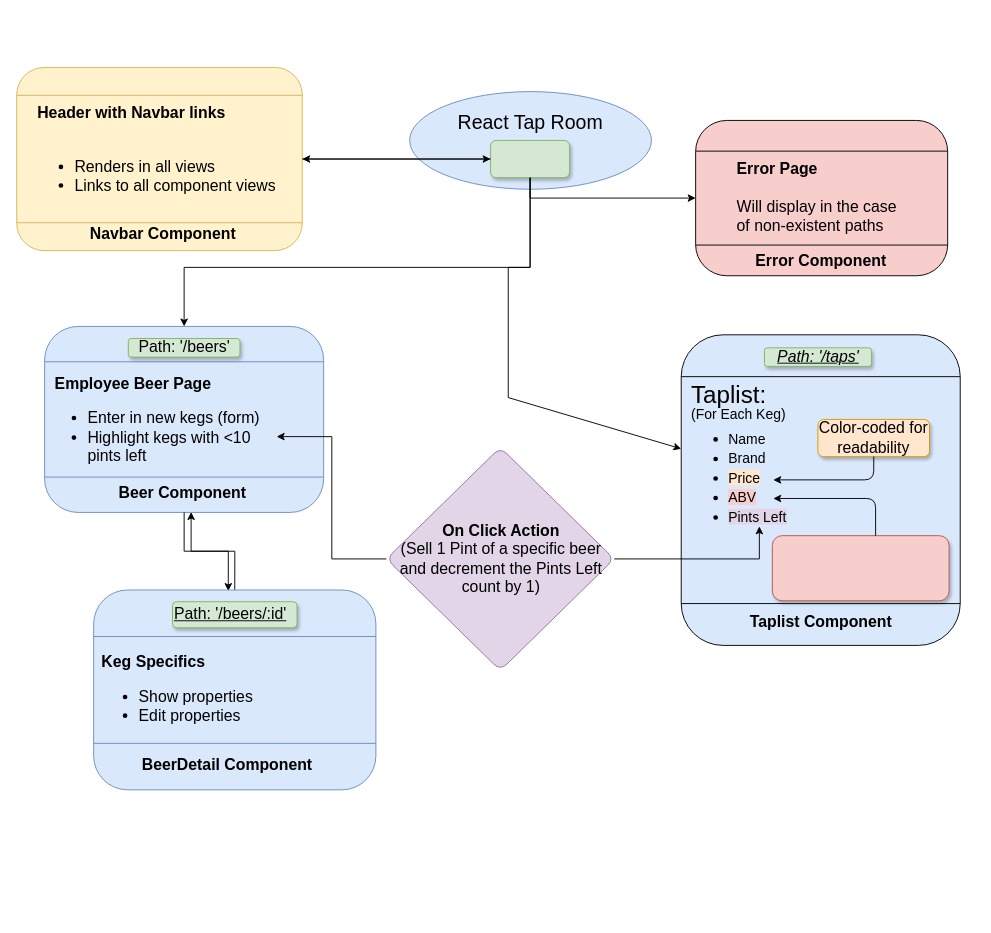
The diagram is 991 pixels wide and 933 high, and some of its shapes have lost their labels. The centre of each missing label's shape, as x and y in pixels:
"React Router" goes at [530,160].
"Specialty styling/display to distinguish stronger beers with high ABV" goes at [861,569].
